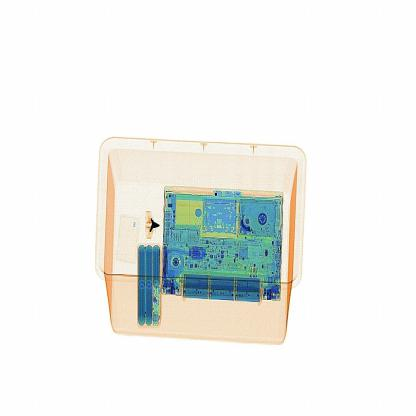gun: (139, 201, 168, 247)
